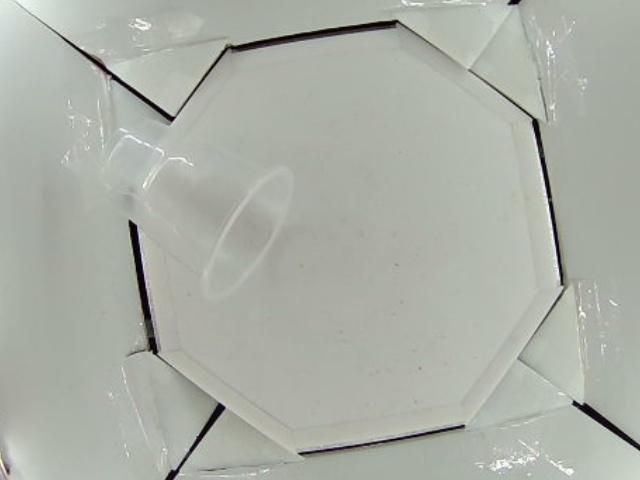Cup: (88, 117, 293, 295)
